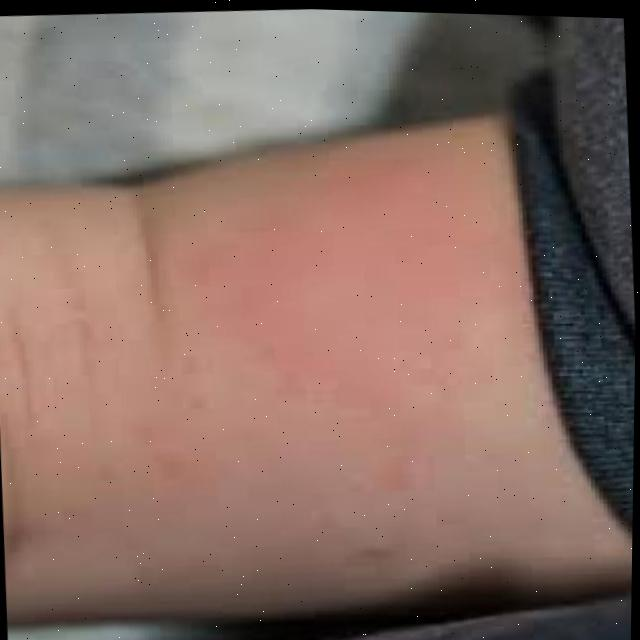Eczema: (225, 164, 481, 374)
